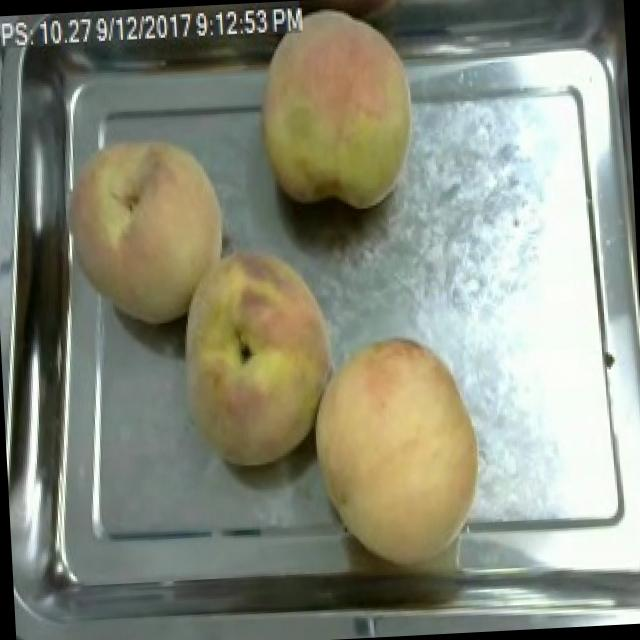Fruit: (301, 326, 493, 571), (166, 239, 354, 476), (245, 0, 430, 222), (49, 121, 240, 336)
